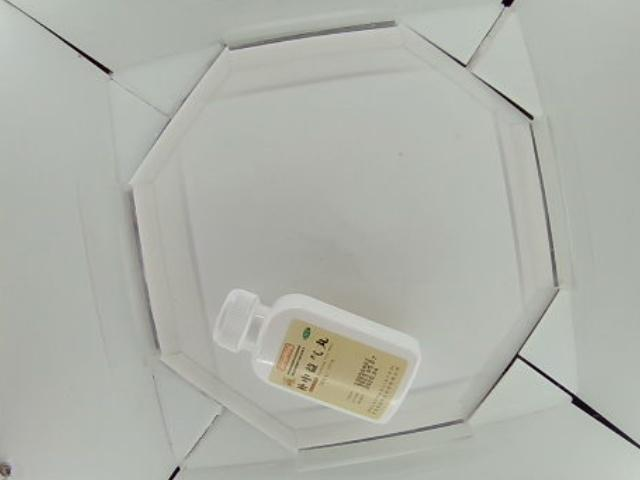Bottle: (212, 288, 424, 421)
